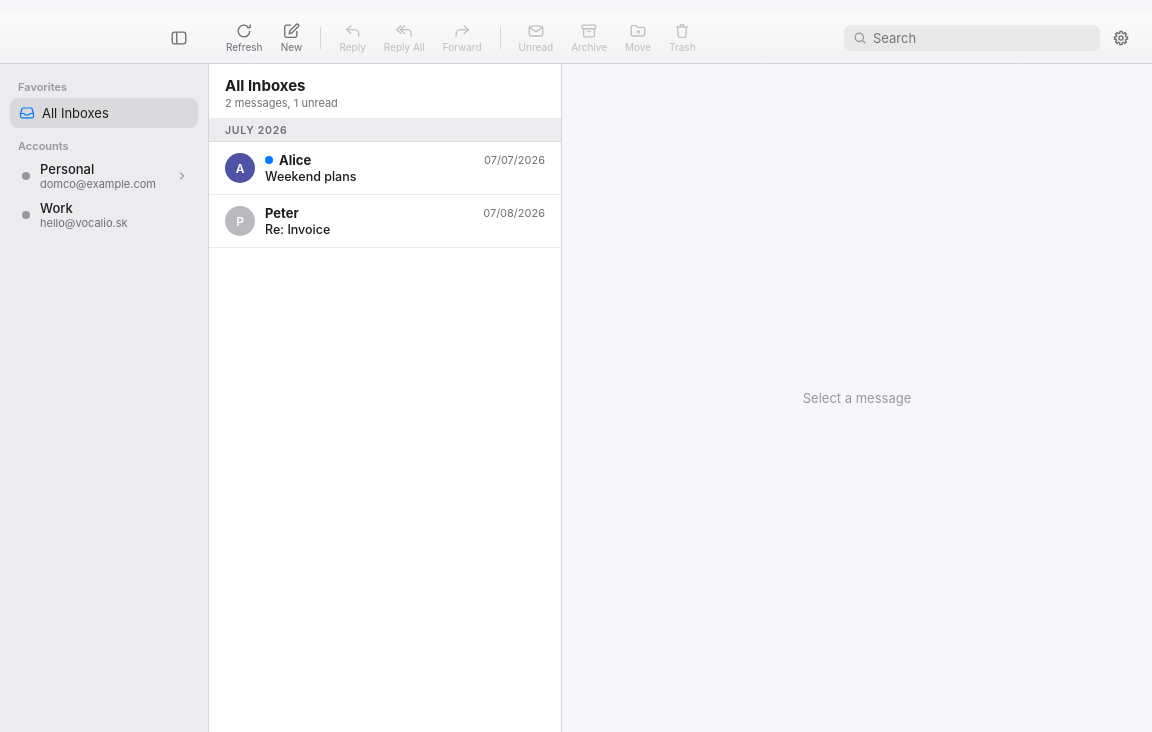
Test case: shows the selected message in the view pane
This screenshot has width=1152, height=732.
Expected: the text "Select a message" is shown, 803,390 -> 911,406
Click the text "Weekend plans". click: (311, 176)
box: 265,169 -> 356,184
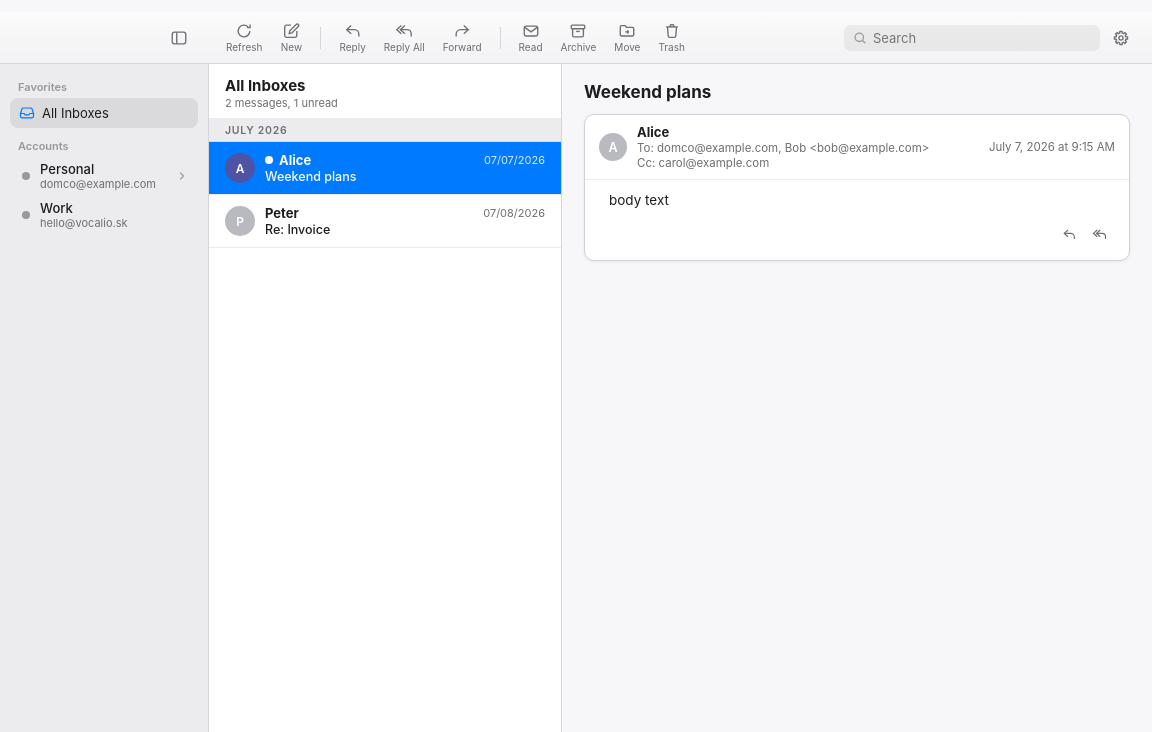
Expected: the heading "Weekend plans" is shown, 584,82 -> 711,102
Expected: the text "Select a message" is gone
